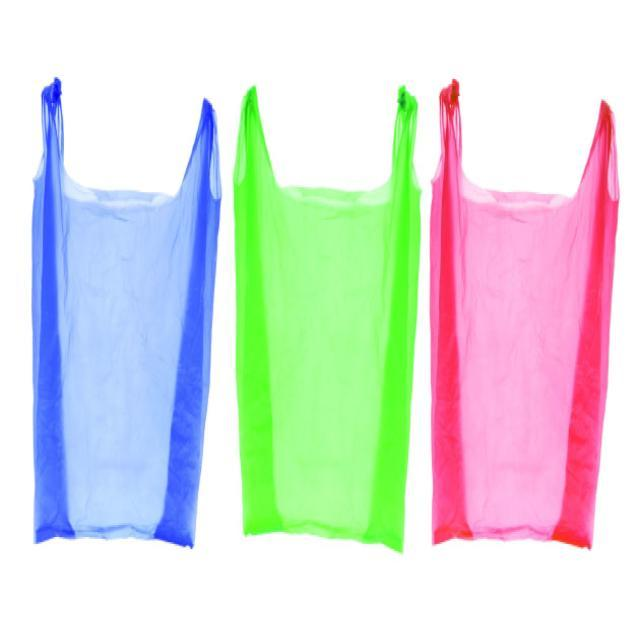Single-layer Plastic: (430, 81, 619, 547), (32, 80, 220, 546), (234, 88, 420, 551)
